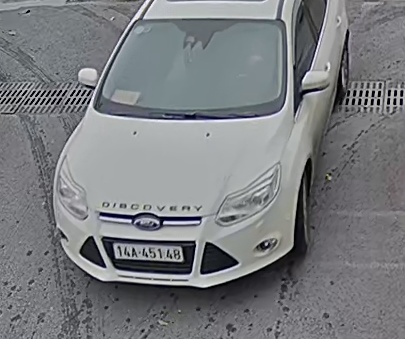vehicle plate: (110, 236, 185, 262)
